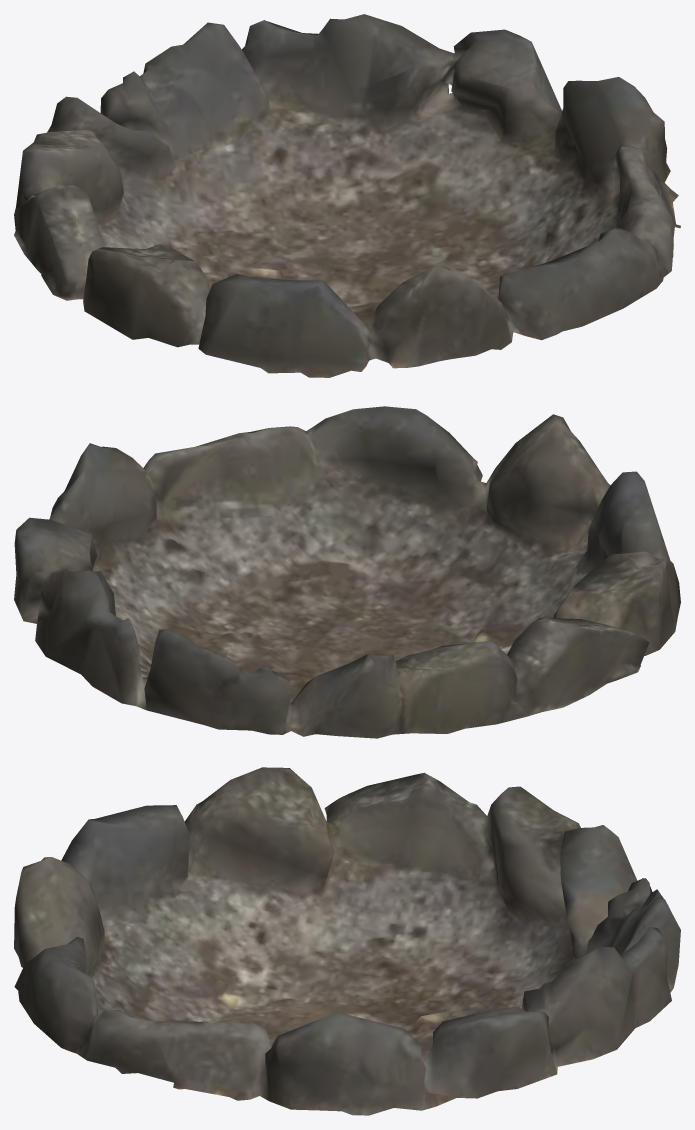
The model's file is stone_fire_pit_lod1.glb.
3 views of the same model, one above another, from view 1: azimuth 30°, elevation 25°; view 2: azimuth 150°, elevation 25°; view 3: azimuth 270°, elevation 25° (orthographic).
Parts seen in each view (by area): view 1: stone_fire_pit; view 2: stone_fire_pit; view 3: stone_fire_pit.
Boxes of the visible parts, box(x1,y1,x2,y2) form: stone_fire_pit: box(14, 14, 680, 377); stone_fire_pit: box(14, 406, 680, 738); stone_fire_pit: box(14, 767, 680, 1115).
Bounding box in the file's own units: 1.45 × 0.3883 × 1.43.
Materials: 1 (1 with a texture image).
